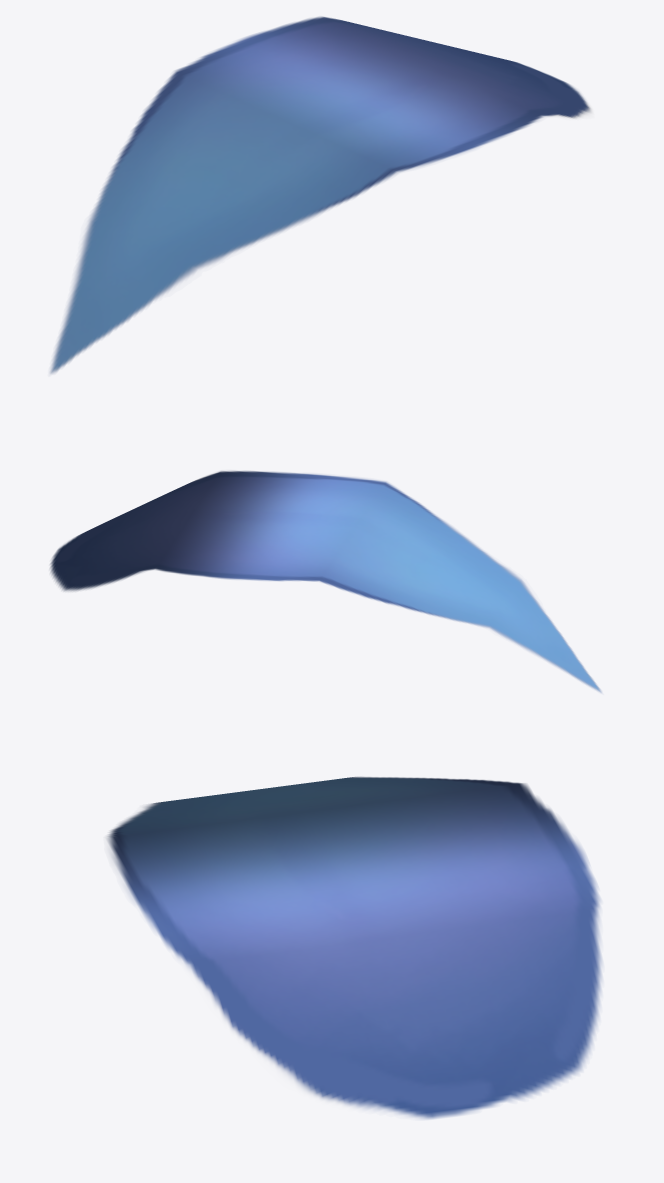
Rendered from leafage2.glb.
3 renders of one model, top to bottom at view 1: azimuth 30°, elevation 25°; view 2: azimuth 150°, elevation 25°; view 3: azimuth 270°, elevation 25°, orthographic. The views are drawn at different scales.
Visible parts, largest first — view 1: Leafage2; view 2: Leafage2; view 3: Leafage2.
Boxes of the visible parts, x1,y1,x2,y2 form: Leafage2: (50, 16, 591, 373); Leafage2: (50, 471, 601, 692); Leafage2: (107, 776, 601, 1119).
Size of the model in its own units: 0.5509 by 0.1605 by 0.3285.
1 material, 1 textured.
